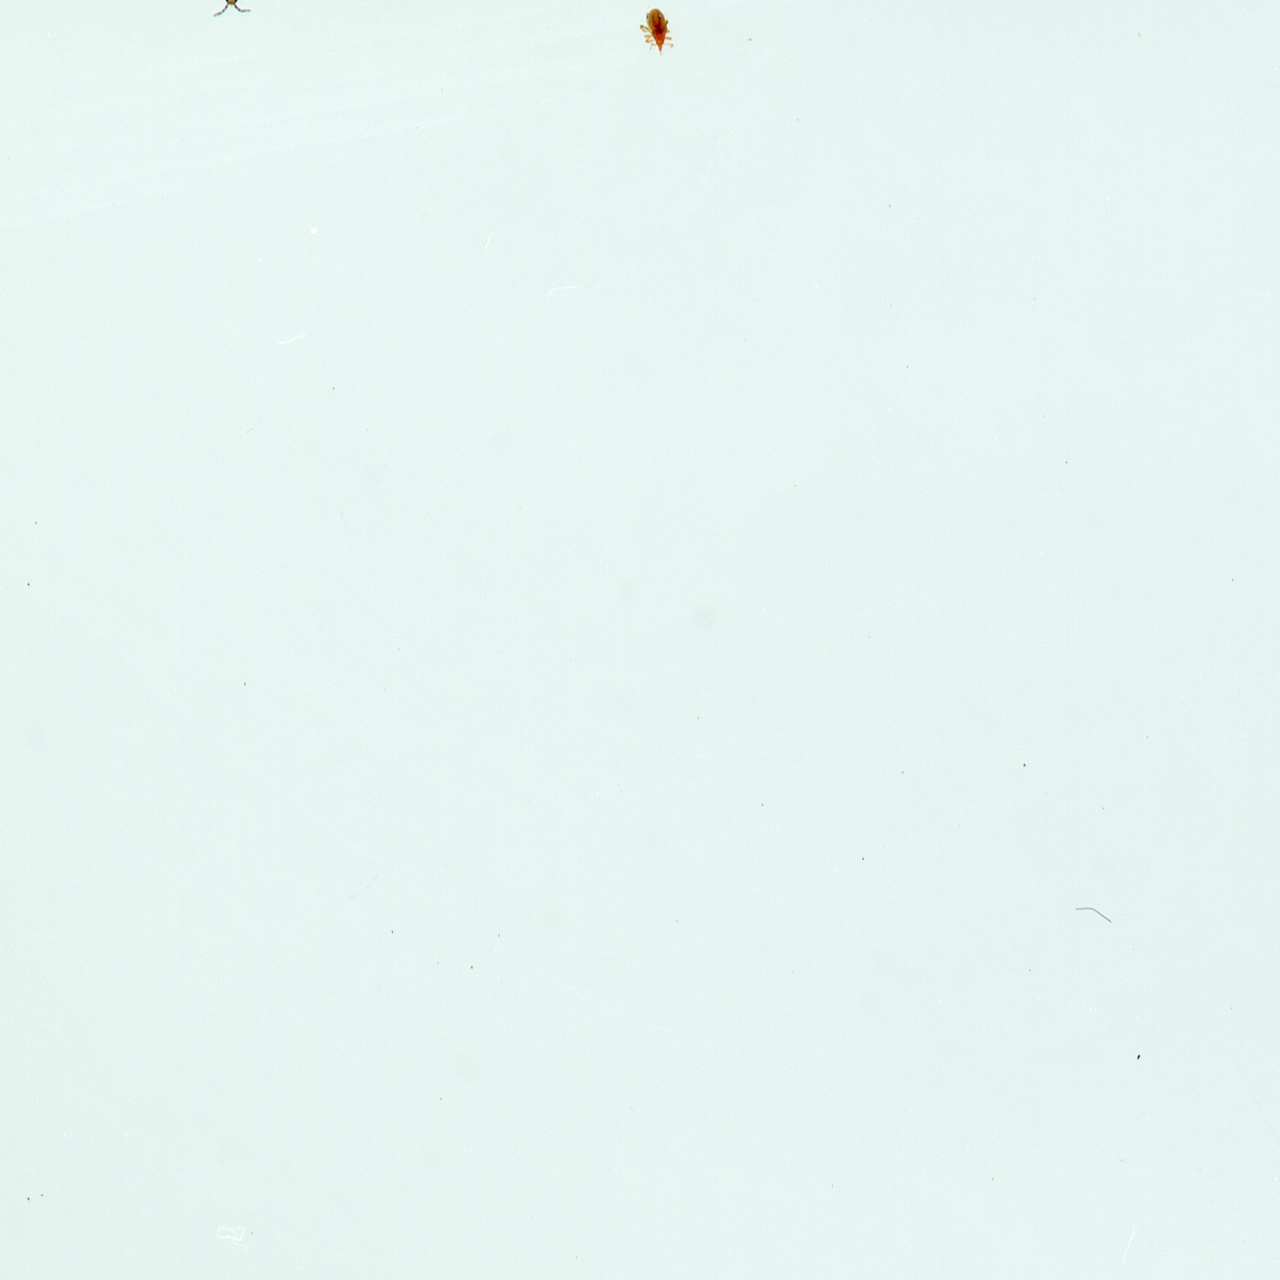arthropod: (632, 5, 675, 56), (207, 0, 252, 25)
